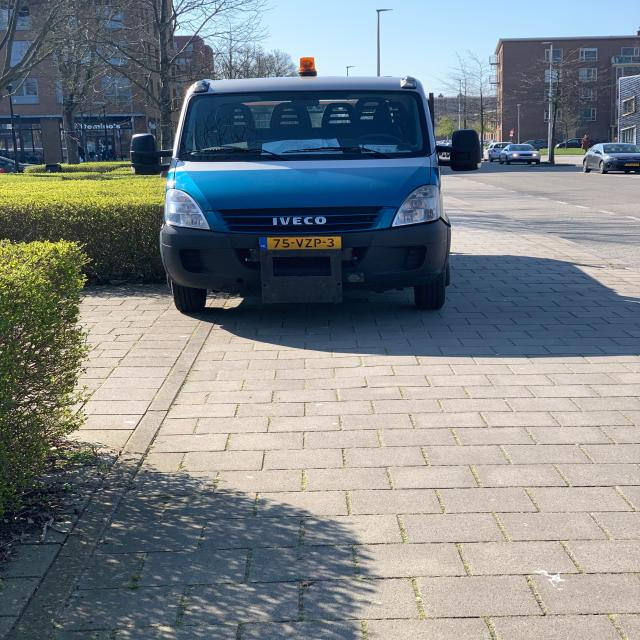plate: (257, 234, 343, 250)
